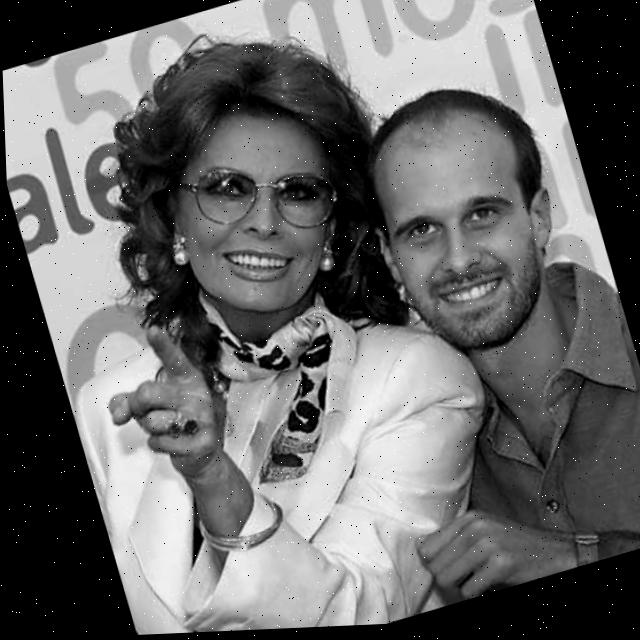face: (358, 86, 585, 366), (139, 61, 368, 338)
